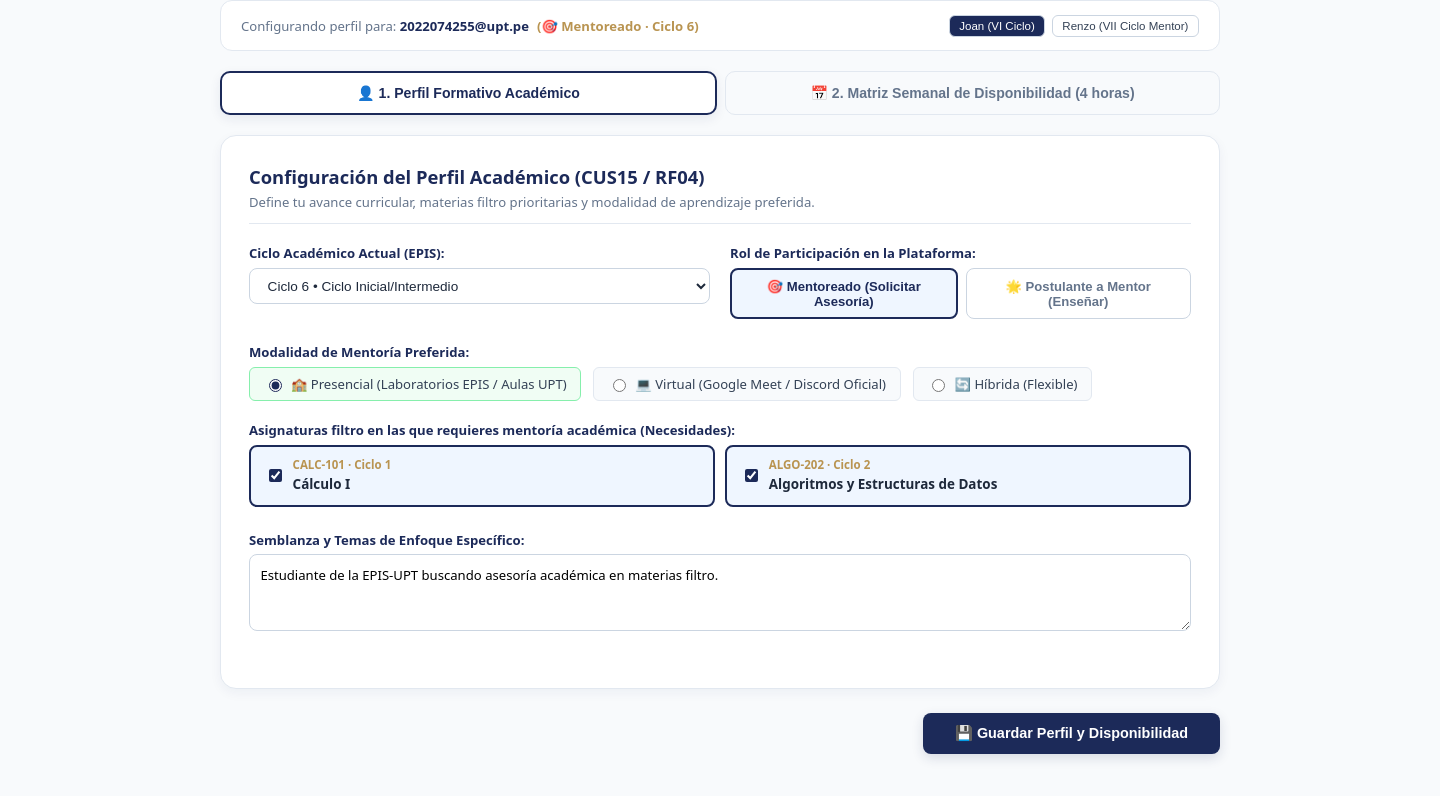
Test case: ProfileAvailabilityView Component (T-11 / RF04 / CUS15) › 2. Muestra advertencia de la regla RN-03 al seleccionar Mentor con ciclo menor a VII
Check: the heading "Configuración del Perfil Académico (CUS15 / RF04)" is shown, box [249, 164, 705, 189]
Step 1. Click the button "🌟 Postulante a Mentor (Enseñar)" → x=1078, y=294, box [966, 268, 1191, 319]
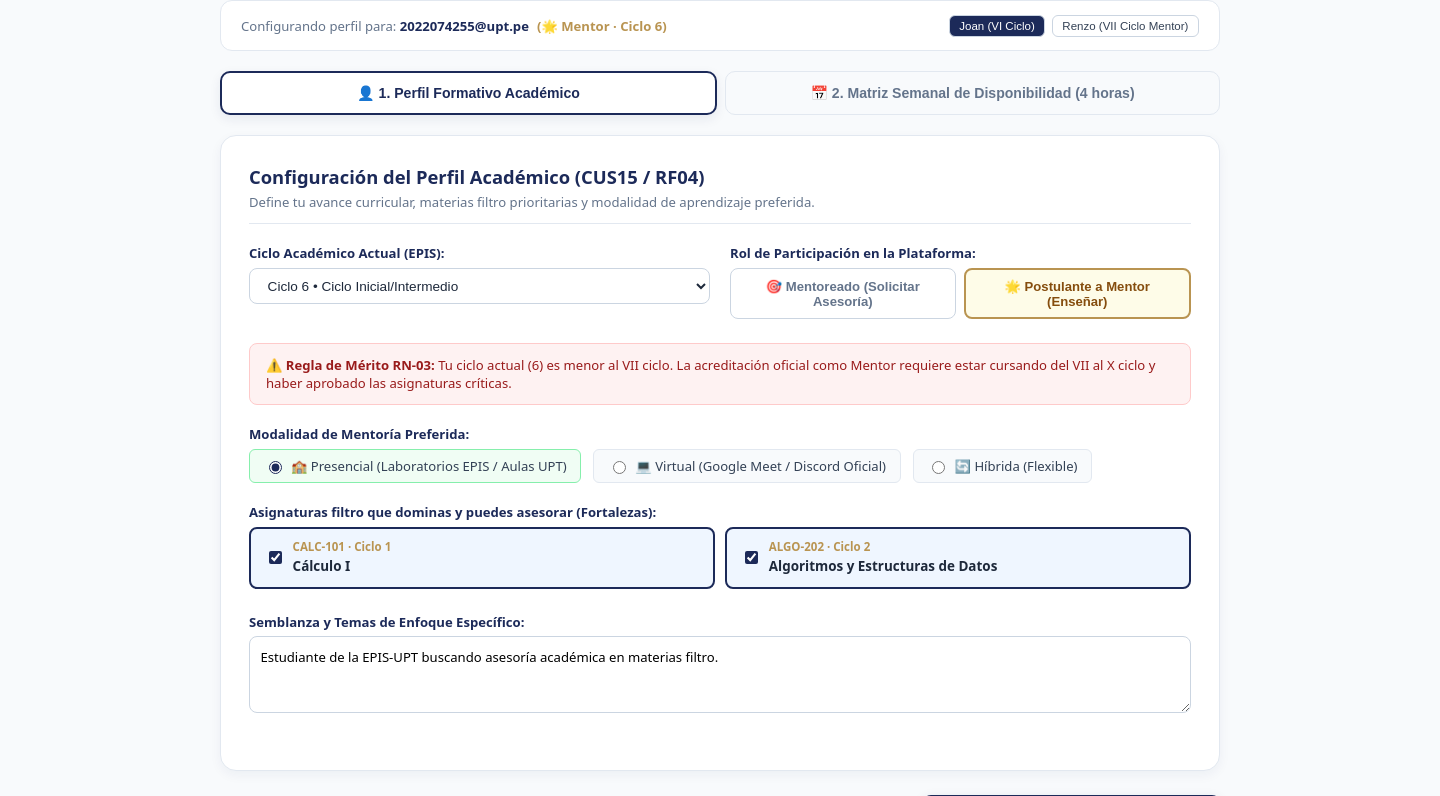
Check: the text "Regla de Mérito RN-03:" is shown, box [286, 356, 435, 374]
